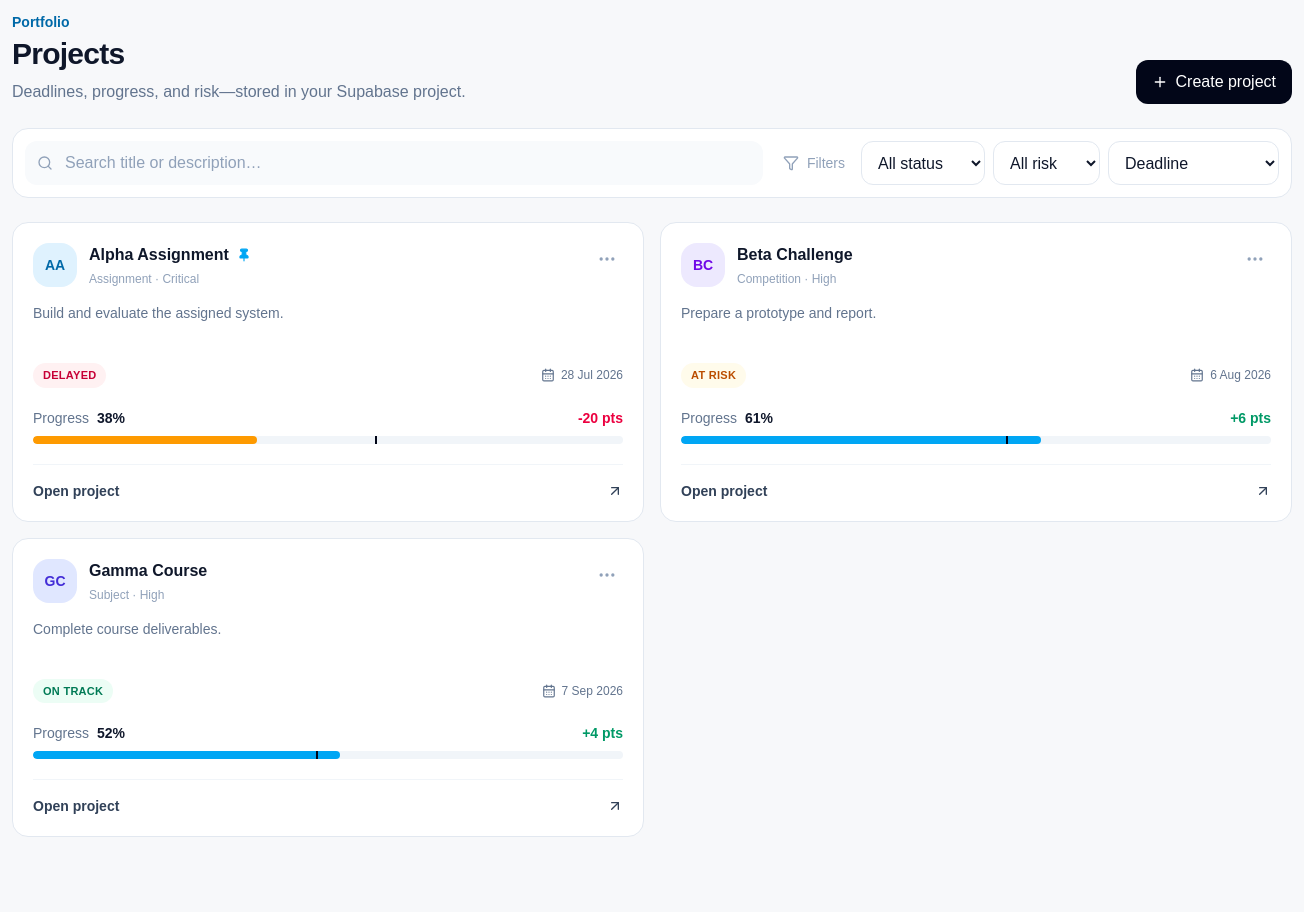
Test: Projects › archives the active project and activates the next available project
The width and height of the screenshot is (1304, 912).
What coordinates should you click on to do the following:
click the heading named "Project actions for Alpha Assignment"
I would click on:
 (607, 259)
Its box is [597,249,617,269].
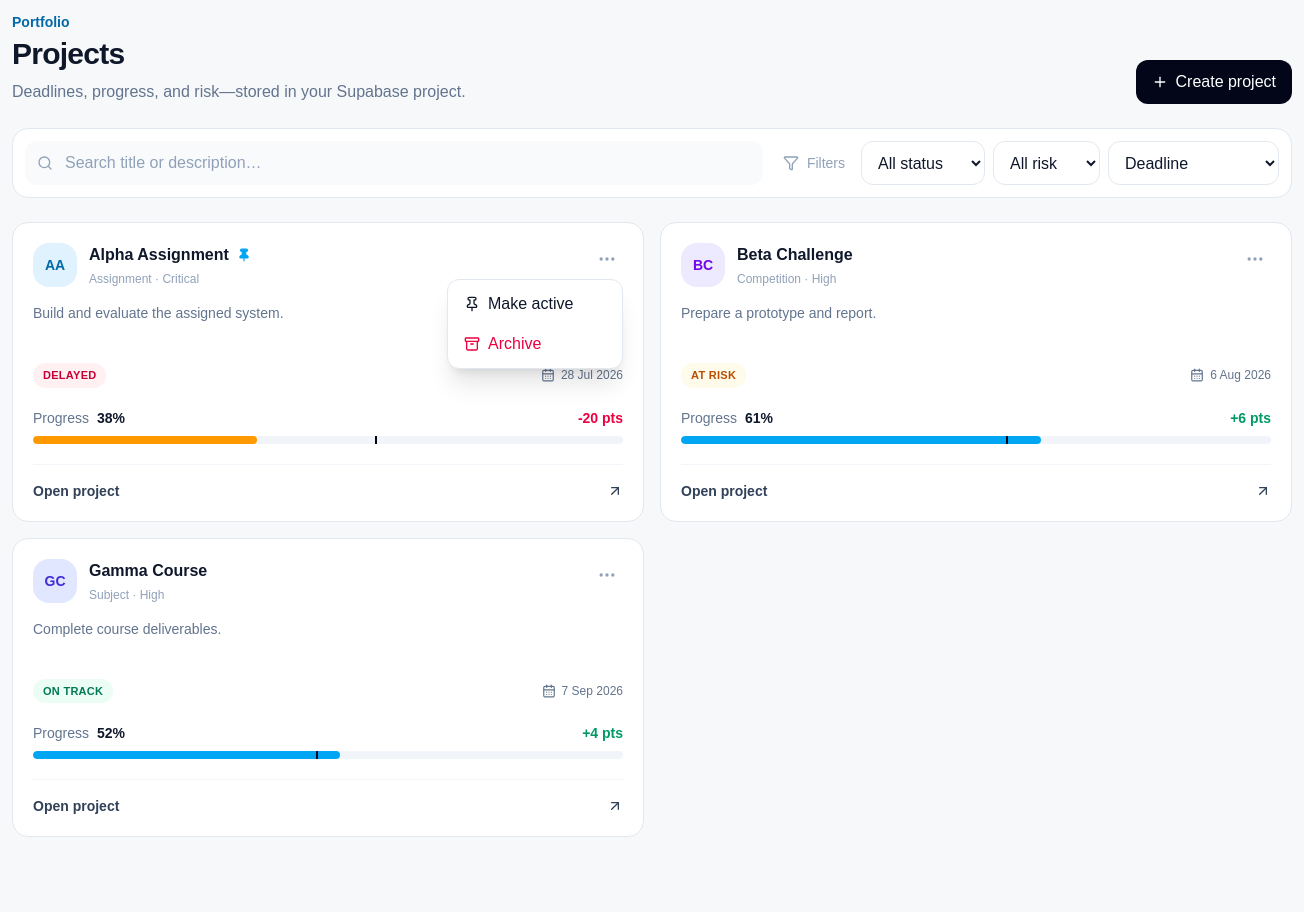
What coordinates should you click on to do the following:
click the button "Archive"
I would click on:
 (535, 344)
Its box is [452,324,618,364].
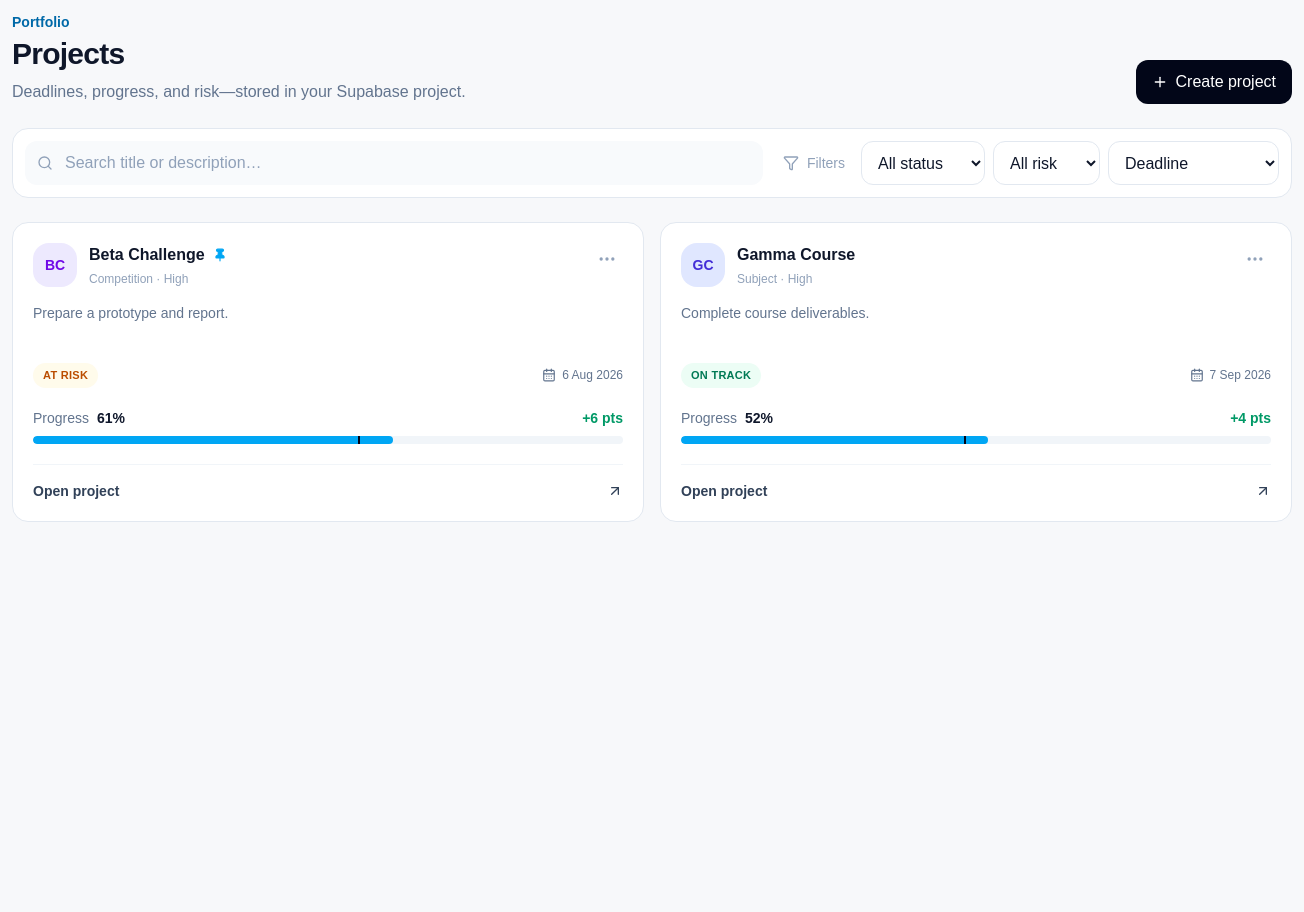
Expected: the heading "Alpha Assignment" is gone
